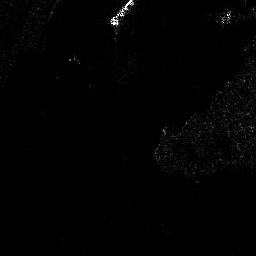ship: (107, 1, 135, 26)
